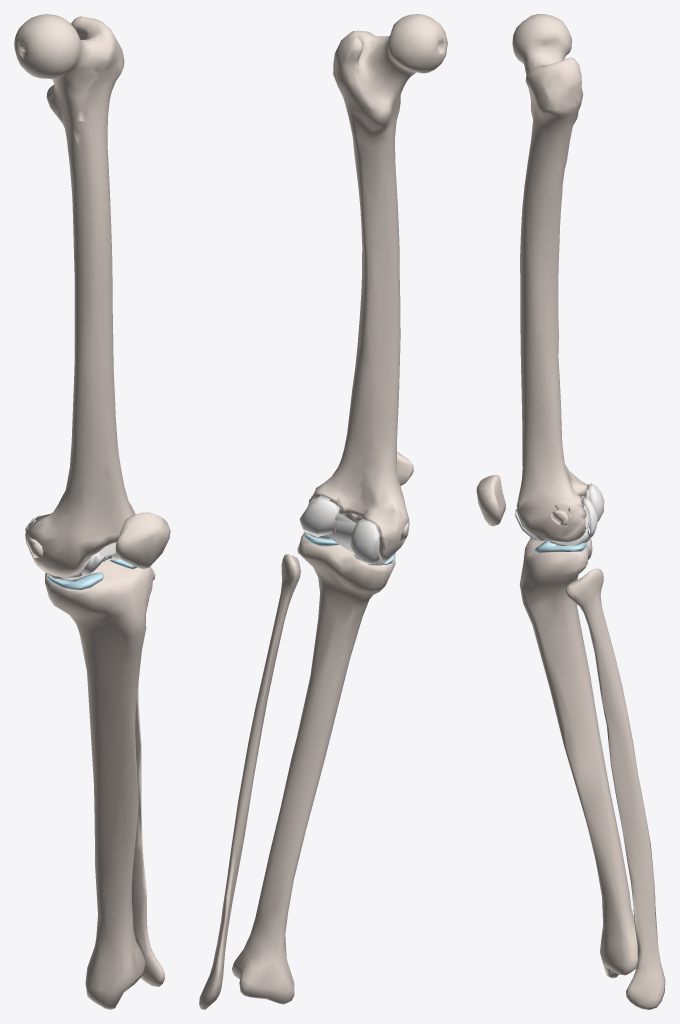
Rendered from 3d-vh-m-knee-l_lod_20.glb.
The picture shows the model from 3 angles, left to right: view 1: azimuth 30°, elevation 25°; view 2: azimuth 150°, elevation 25°; view 3: azimuth 270°, elevation 25°; orthographic projection. The views are drawn at different scales.
Visible parts, largest first — view 1: VH_M_femur_L, VH_M_tibia_L, VH_M_fibula_L, VH_M_patella_L, VH_M_meniscus_L, VH_M_articular_cartilage_of_knee_L; view 2: VH_M_femur_L, VH_M_tibia_L, VH_M_fibula_L, VH_M_lateral_condyle_of_femur_inf_L, VH_M_medial_condyle_of_left_femur_inf, VH_M_articular_cartilage_of_knee_L; view 3: VH_M_femur_L, VH_M_tibia_L, VH_M_fibula_L, VH_M_patella_L, VH_M_articular_cartilage_of_knee_L.
Part boxes in pixels (x1=…): VH_M_femur_L: x1=14, y1=14, x2=135, y2=577; VH_M_tibia_L: x1=45, y1=560, x2=153, y2=1009; VH_M_fibula_L: x1=132, y1=568, x2=164, y2=986; VH_M_patella_L: x1=115, y1=512, x2=170, y2=569; VH_M_meniscus_L: x1=47, y1=560, x2=137, y2=589; VH_M_articular_cartilage_of_knee_L: x1=28, y1=513, x2=117, y2=578; VH_M_femur_L: x1=307, y1=14, x2=447, y2=560; VH_M_tibia_L: x1=232, y1=533, x2=395, y2=1004; VH_M_fibula_L: x1=199, y1=554, x2=300, y2=1009; VH_M_lateral_condyle_of_femur_inf_L: x1=299, y1=496, x2=340, y2=536; VH_M_medial_condyle_of_left_femur_inf: x1=350, y1=520, x2=379, y2=564; VH_M_articular_cartilage_of_knee_L: x1=303, y1=495, x2=393, y2=565; VH_M_femur_L: x1=512, y1=14, x2=589, y2=541; VH_M_tibia_L: x1=519, y1=533, x2=637, y2=978; VH_M_fibula_L: x1=566, y1=568, x2=665, y2=1009; VH_M_patella_L: x1=476, y1=475, x2=505, y2=526; VH_M_articular_cartilage_of_knee_L: x1=516, y1=483, x2=591, y2=545.
Size of the model in its own units: 0.1735 by 0.8874 by 0.1648.
